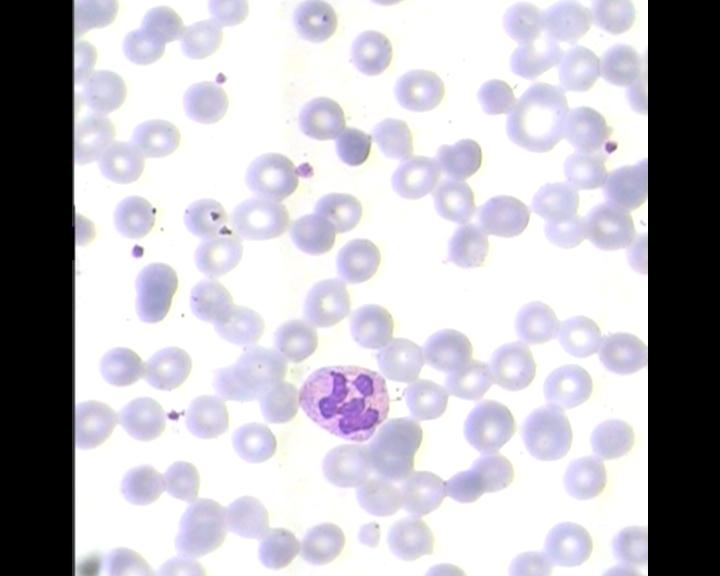neut: (295, 363, 388, 444)
